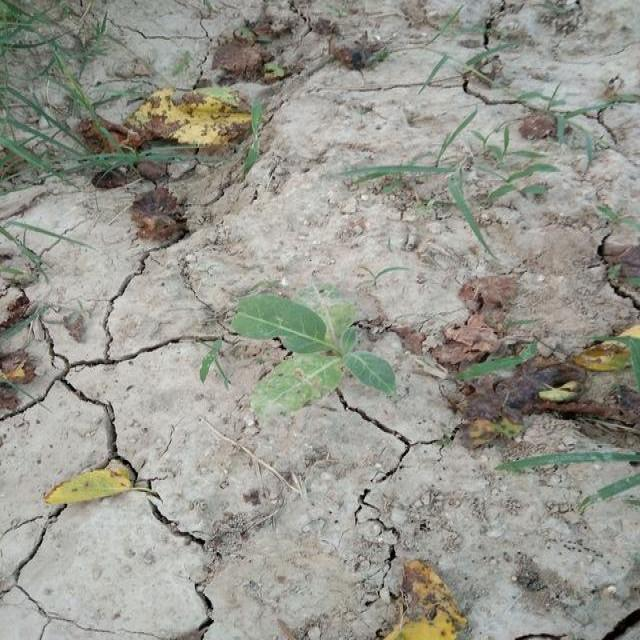crop: (235, 287, 402, 421)
